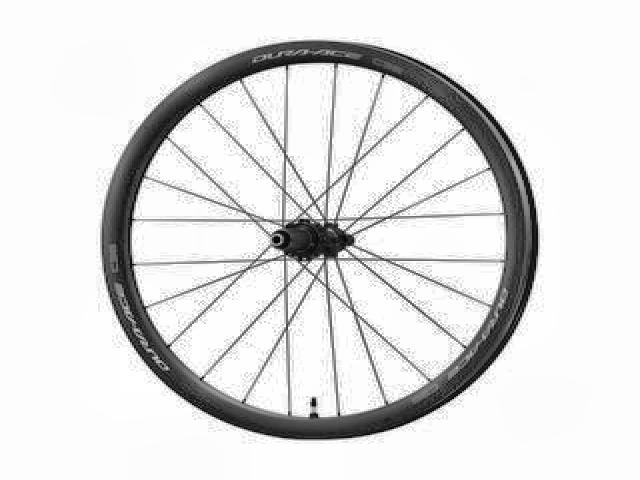wheel: (95, 39, 542, 444)
